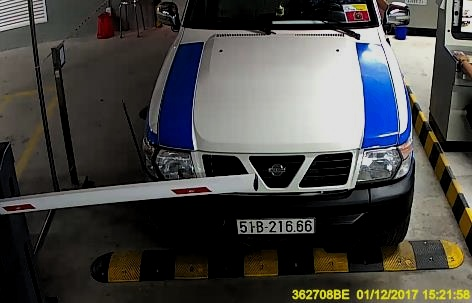plate: (235, 210, 317, 237)
